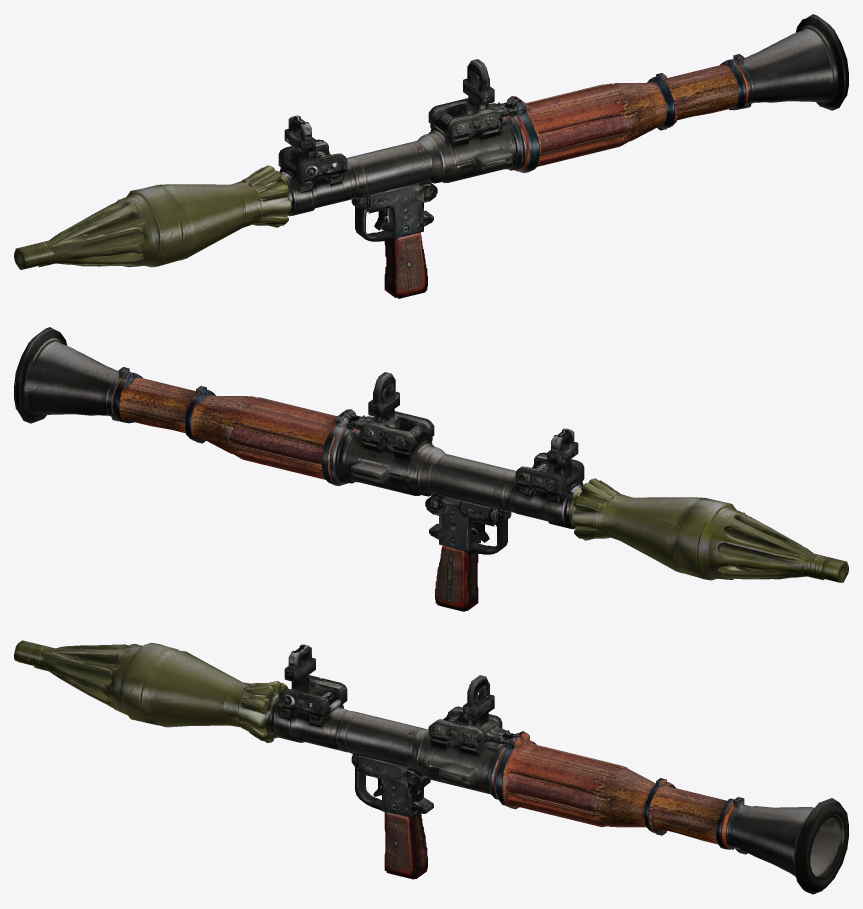
File: rpg7.glb
The picture shows the model from 3 angles, top to bottom: view 1: azimuth 30°, elevation 25°; view 2: azimuth 150°, elevation 25°; view 3: azimuth 330°, elevation 25°; orthographic projection.
Parts seen in each view (by area): view 1: tripo_node_de4d133e-5a24-407f-8368-ce5a5ff36545; view 2: tripo_node_de4d133e-5a24-407f-8368-ce5a5ff36545; view 3: tripo_node_de4d133e-5a24-407f-8368-ce5a5ff36545.
Boxes of the visible parts, bbox=[...] form: tripo_node_de4d133e-5a24-407f-8368-ce5a5ff36545: bbox=[14, 14, 848, 298]; tripo_node_de4d133e-5a24-407f-8368-ce5a5ff36545: bbox=[14, 327, 848, 611]; tripo_node_de4d133e-5a24-407f-8368-ce5a5ff36545: bbox=[14, 640, 848, 894].
Size of the model in its own units: 0.9823 by 0.248 by 0.1057.
1 material, 1 textured.
